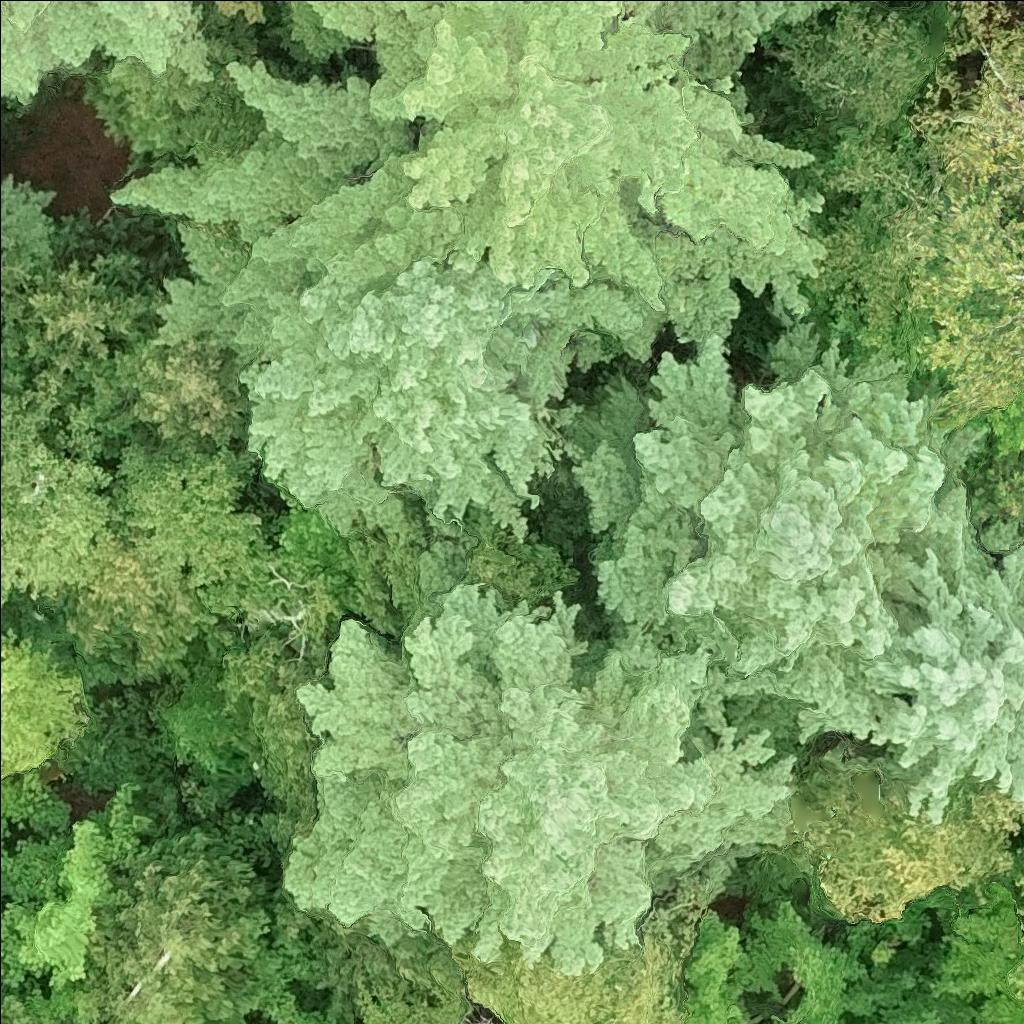crown: (107, 60, 644, 537), (288, 584, 794, 977), (309, 0, 835, 354), (573, 323, 993, 761), (72, 444, 339, 677), (854, 520, 1023, 822), (857, 147, 1023, 452), (35, 831, 268, 1023), (807, 770, 1022, 923), (0, 779, 154, 991), (905, 0, 1023, 227), (447, 918, 685, 1023), (0, 384, 114, 600), (0, 0, 212, 101), (728, 901, 864, 1023), (110, 341, 242, 444), (0, 632, 87, 784), (30, 253, 147, 360), (149, 683, 240, 774), (681, 909, 747, 1023), (466, 544, 536, 598), (0, 251, 42, 335), (364, 989, 431, 1023), (0, 990, 39, 1023), (1007, 961, 1023, 1002), (1014, 875, 1023, 891), (1019, 927, 1023, 945), (865, 1021, 872, 1023), (1023, 906, 1023, 906)
